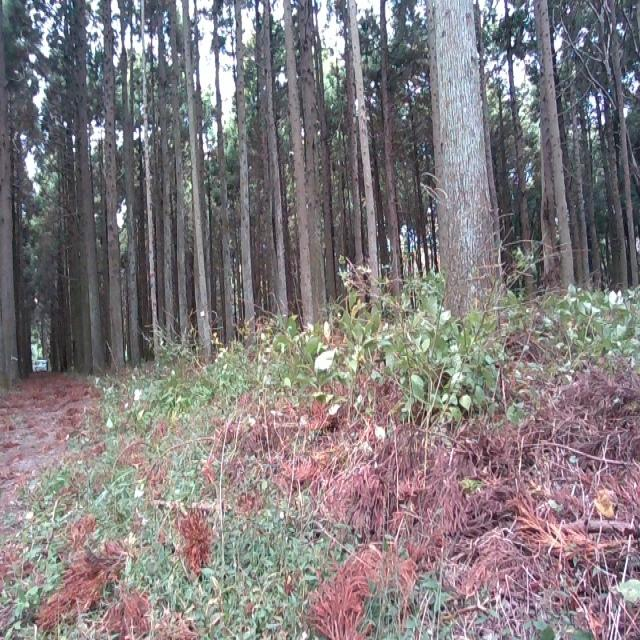bush: (162, 263, 481, 513)
tree: (420, 0, 507, 312), (342, 0, 382, 308), (284, 0, 322, 308)
